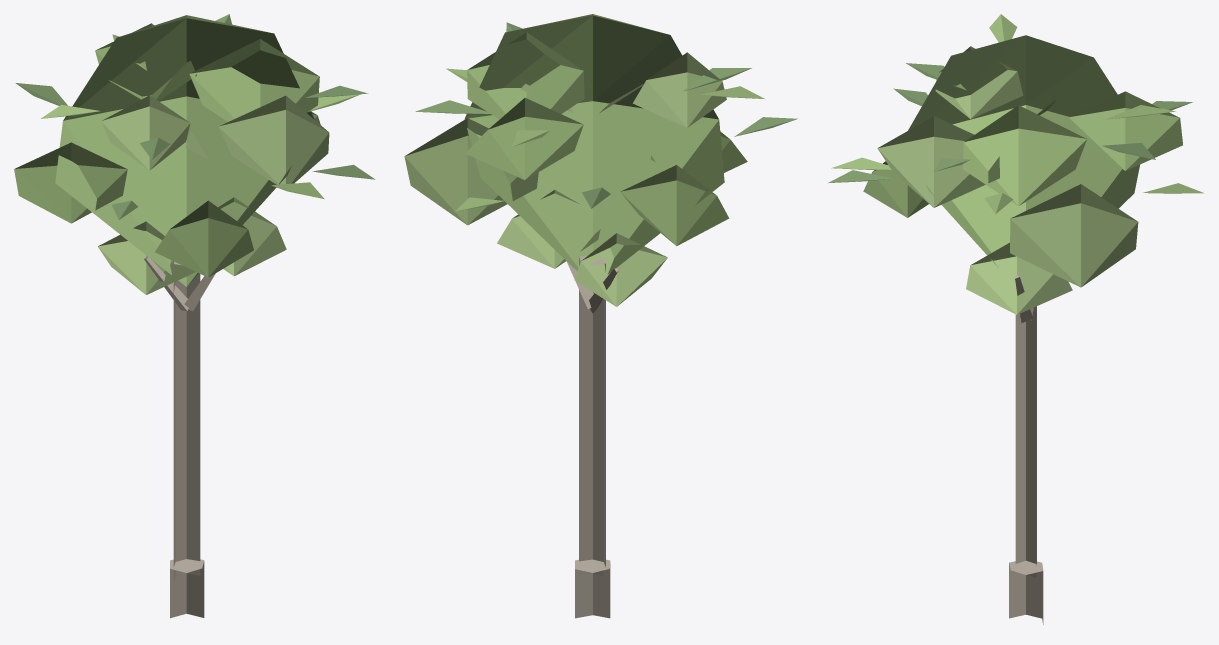
The model's file is shu.baigan@subadult__bloom.glb.
3 renders of one model, left to right at view 1: azimuth 30°, elevation 25°; view 2: azimuth 150°, elevation 25°; view 3: azimuth 270°, elevation 25°, orthographic. The views are drawn at different scales.
Parts seen in each view (by area): view 1: shu.baigan@subadult__bloom; view 2: shu.baigan@subadult__bloom; view 3: shu.baigan@subadult__bloom.
Boxes of the visible parts, box(x1,y1,x2,y2) form: shu.baigan@subadult__bloom: box(14, 14, 375, 618); shu.baigan@subadult__bloom: box(404, 14, 797, 618); shu.baigan@subadult__bloom: box(828, 14, 1203, 624).
Size of the model in its own units: 4.61 by 8.31 by 4.84.
